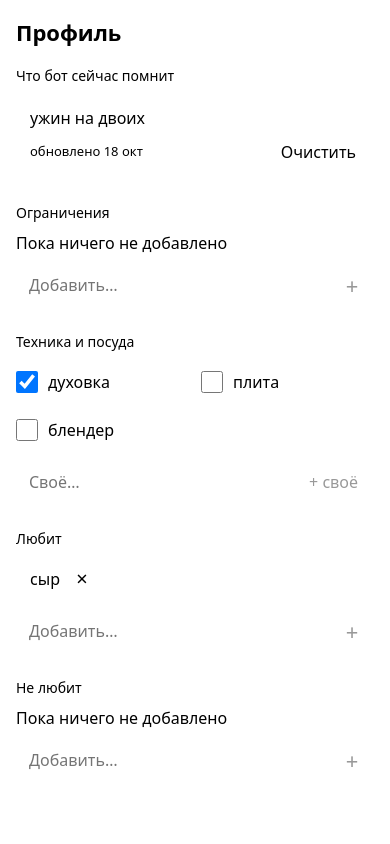
Test: ProfileView › добавление тега в «Не любит» сохраняет его
The image size is (390, 844).
Type "лук" into the field with test id "input" below "Не любит" at (169, 760), box [16,738,322,782]
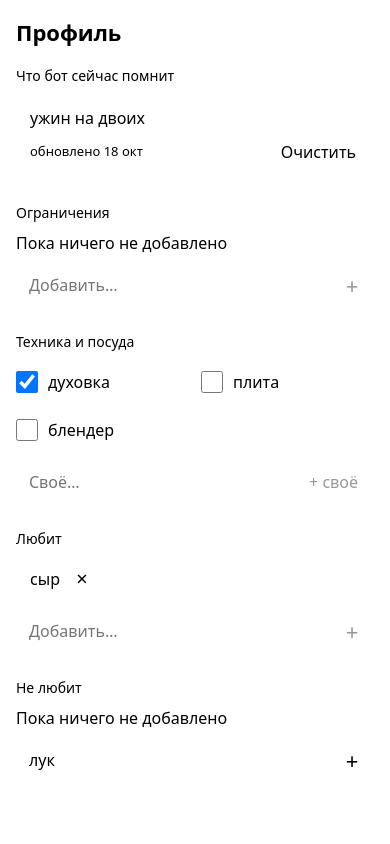
Click the button with test id "add" below "Не любит" at (352, 760), box [330,738,374,782]
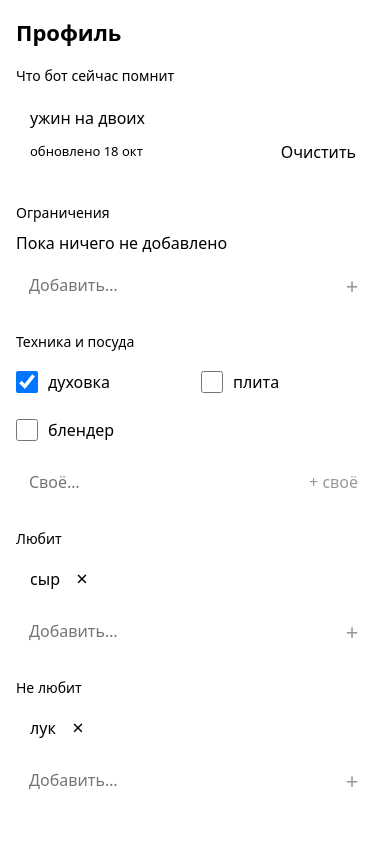
expect the element showing "Не любит лук × +" is shown: met, box [16,677,374,802]
